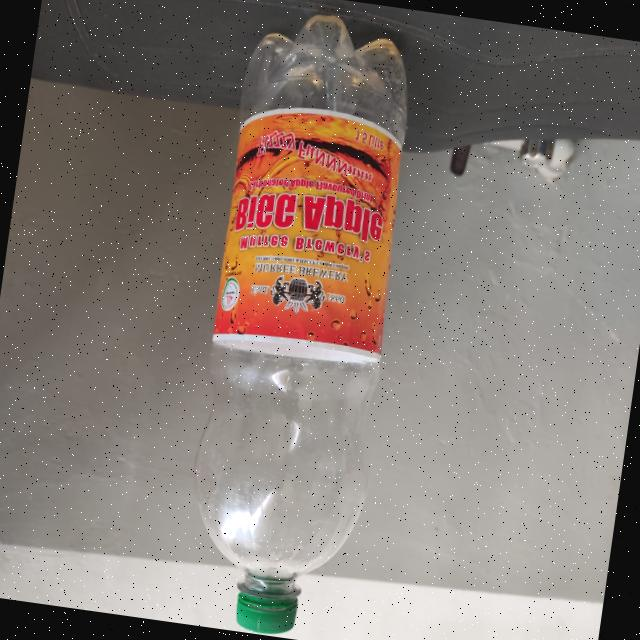bottle: (164, 0, 438, 640)
cap: (233, 579, 306, 640)
label: (204, 104, 413, 360)
